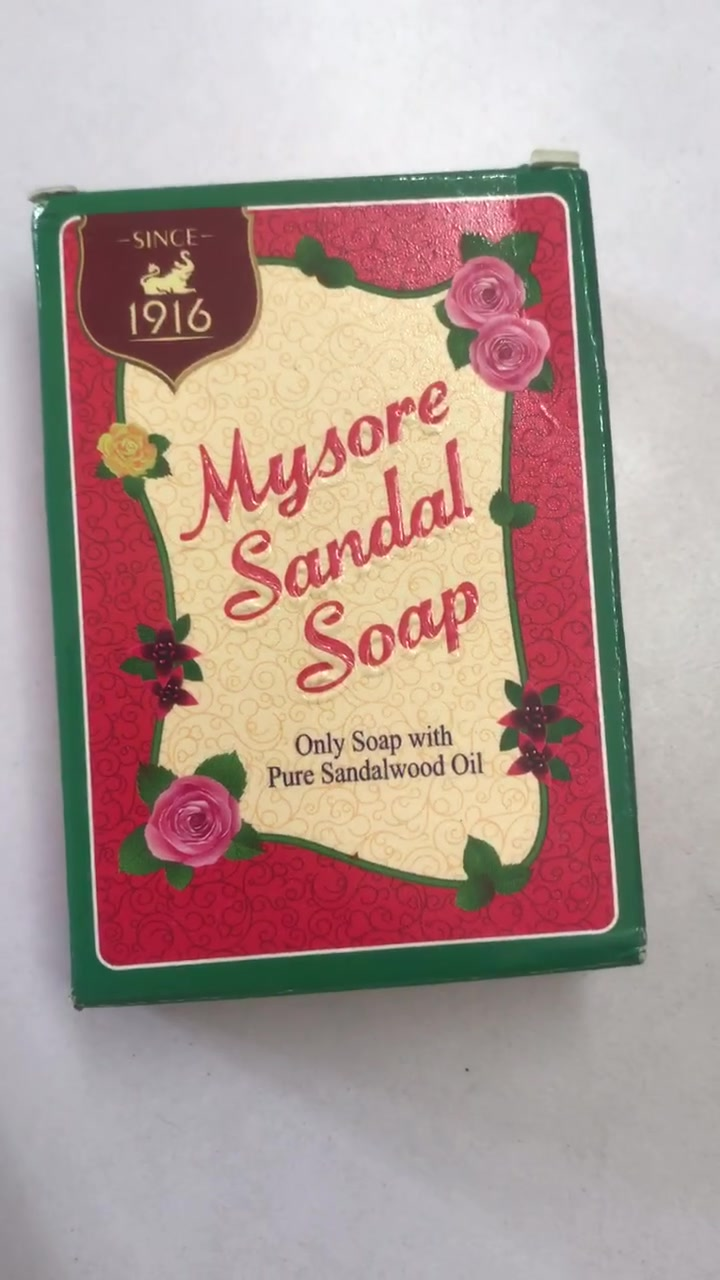mysore sandal soap: (24, 184, 652, 964)
